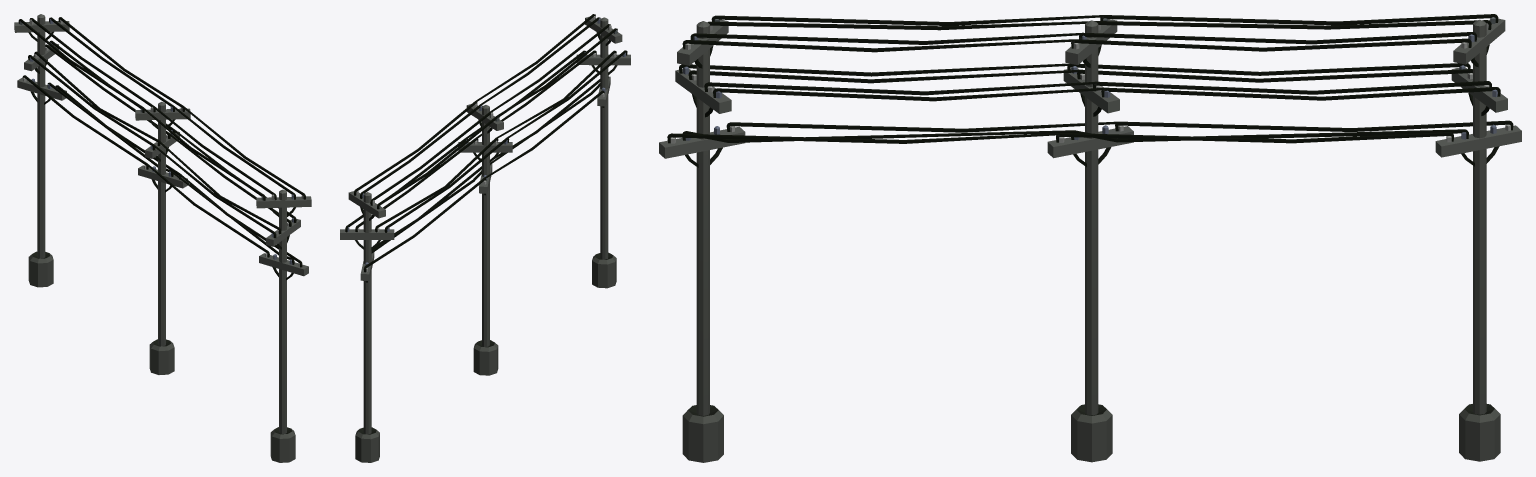
The model's file is Telephone_Pole_3.glb.
3 views of the same model, side by side, from view 1: azimuth 30°, elevation 25°; view 2: azimuth 150°, elevation 25°; view 3: azimuth 270°, elevation 25° (orthographic). The views are drawn at different scales.
Parts seen in each view (by area): view 1: Three_Telephone_Posts; view 2: Three_Telephone_Posts; view 3: Three_Telephone_Posts.
Boxes of the visible parts, x1,y1,x2,y2 form: Three_Telephone_Posts: [14, 14, 311, 462]; Three_Telephone_Posts: [340, 14, 630, 462]; Three_Telephone_Posts: [659, 14, 1521, 462].
Size of what is drawn, in the model's own units: 0.9139 by 4.93 by 8.89.
Materials: 1 (1 with a texture image).
